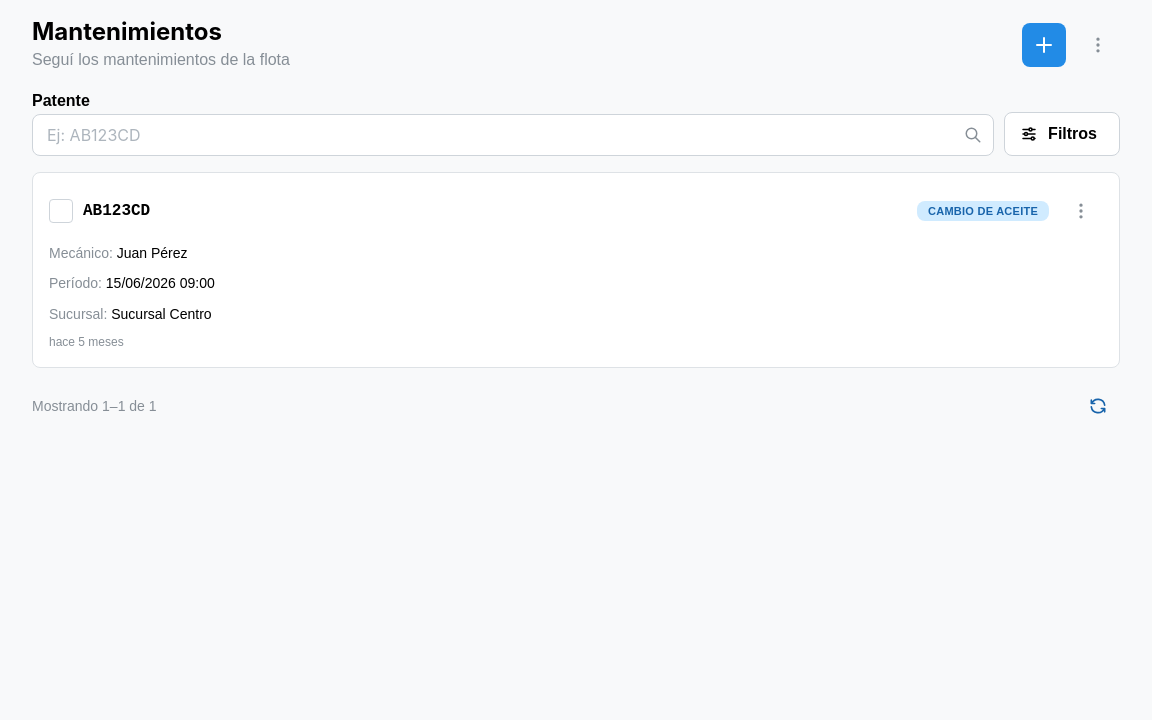
Test: ListaMantenimientos en mobile › selecciona una tarjeta y muestra el banner de selección
expect the element with test id "list-card" is shown: met, box x1=32 y1=172 x2=1120 y2=368
Click the checkbox named "Seleccionar AB123CD". click: (61, 211)
box: x1=49 y1=199 x2=73 y2=223
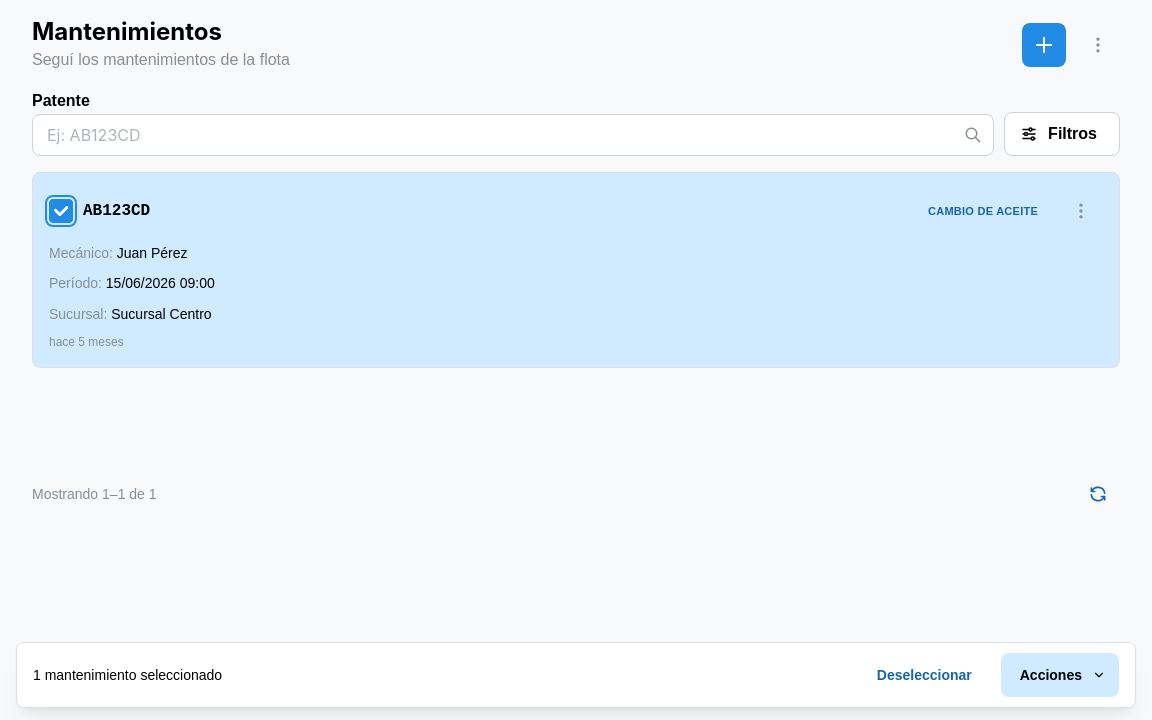
expect the text "1 mantenimiento seleccionado" is shown: met, box x1=33 y1=665 x2=222 y2=685
